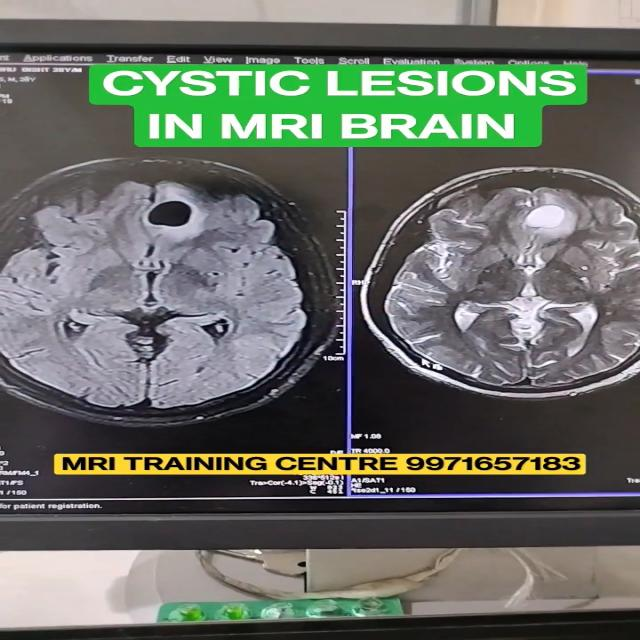tumor: (353, 197, 640, 240), (137, 184, 223, 235)
